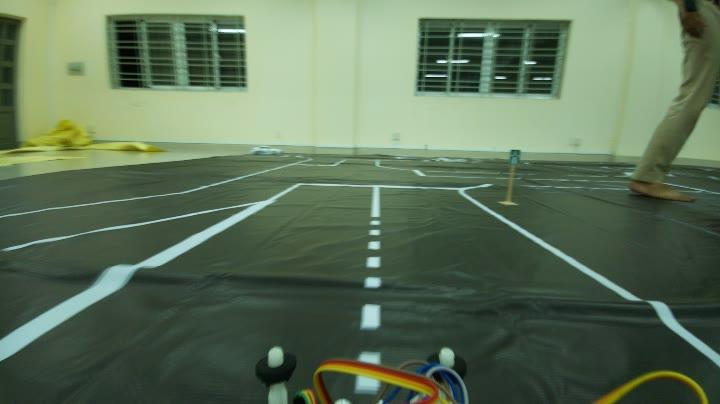highway_entry: (504, 145, 525, 172)
